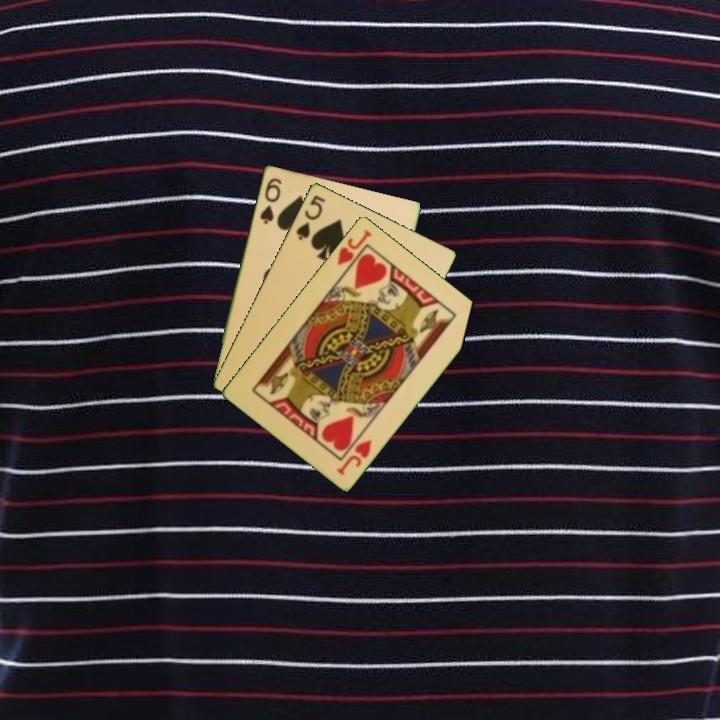5s: (292, 191, 328, 242)
6s: (256, 174, 285, 227)
Jh: (333, 225, 374, 268), (333, 436, 374, 478)
